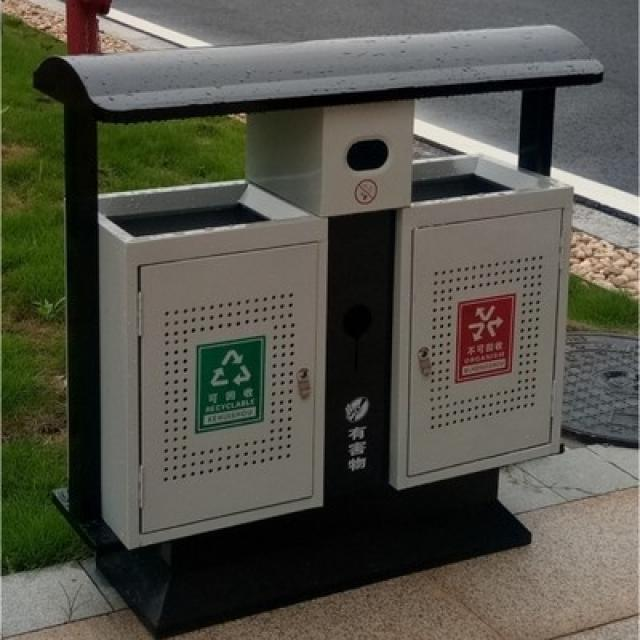ash bin: (32, 16, 602, 638)
